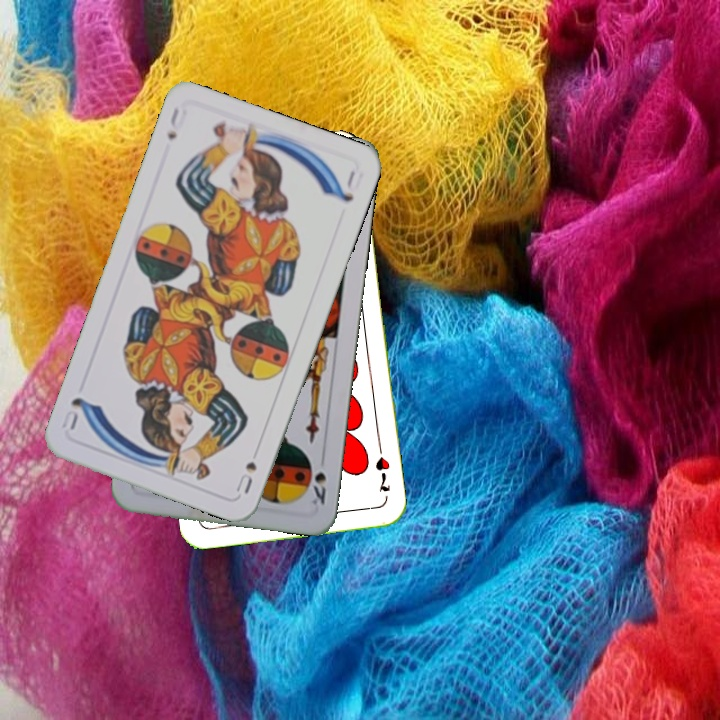H7: (371, 453, 393, 495)
SK: (307, 451, 329, 510)
SU: (232, 457, 260, 497), (163, 104, 190, 143)
